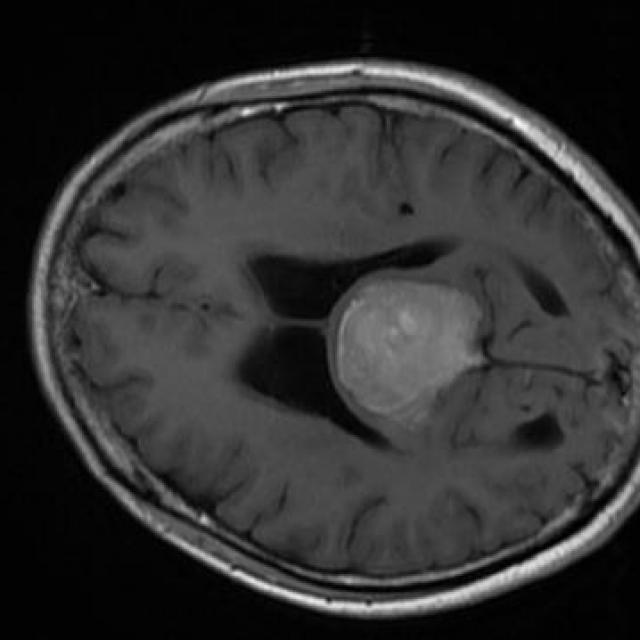meningioma: (337, 282, 483, 424)
